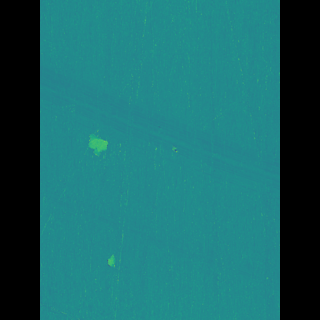Loch: (69, 56, 249, 202), (74, 186, 251, 295), (103, 129, 125, 166), (117, 253, 130, 270)
